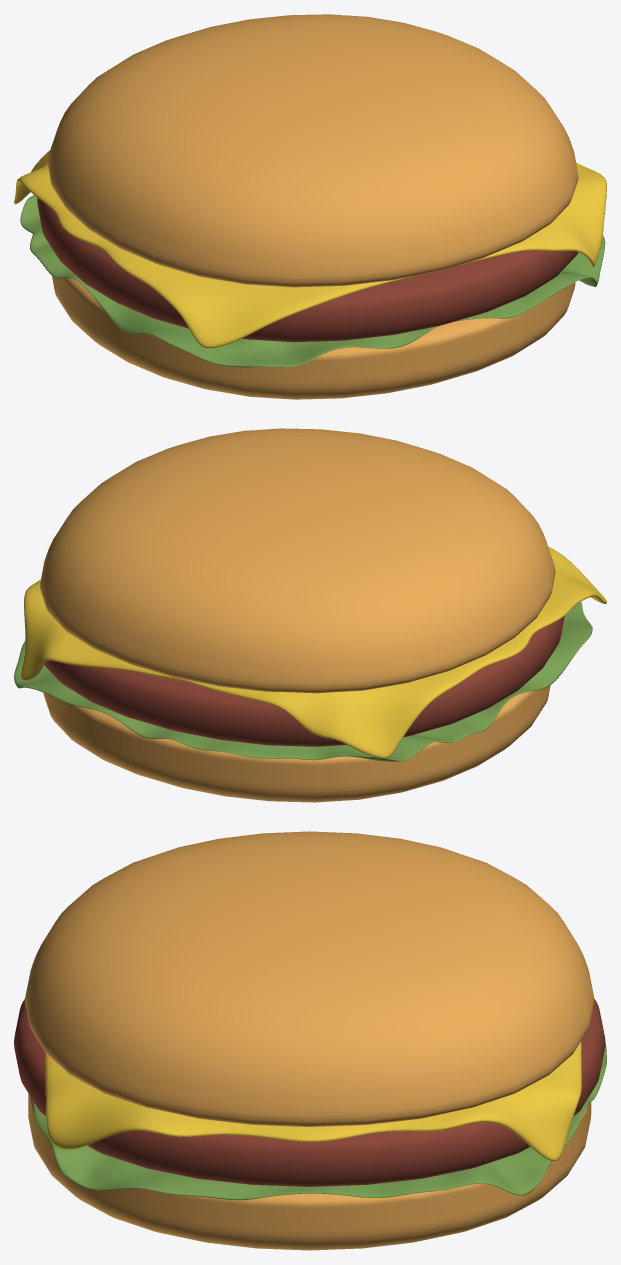
Rendered from hamburger.glb.
3 renders of one model, top to bottom at view 1: azimuth 30°, elevation 25°; view 2: azimuth 150°, elevation 25°; view 3: azimuth 270°, elevation 25°, orthographic. The views are drawn at different scales.
Visible parts, largest first — view 1: top bun, bottom bun, patty, cheese, lettuce; view 2: top bun, bottom bun, cheese, patty, lettuce; view 3: top bun, bottom bun, patty, cheese, lettuce.
Boxes of the visible parts, box(x1,y1,x2,y2) form: top bun: box(47, 14, 578, 287); bottom bun: box(52, 276, 575, 399); patty: box(37, 198, 578, 342); cheese: box(14, 150, 606, 348); lettuce: box(20, 195, 605, 367); top bun: box(40, 428, 555, 693); bottom bun: box(43, 685, 550, 802); cheese: box(21, 546, 606, 758); patty: box(44, 616, 564, 746); lettuce: box(14, 602, 592, 761); top bun: box(25, 831, 594, 1126); bottom bun: box(28, 1093, 591, 1250); patty: box(14, 998, 605, 1186); cheese: box(45, 1040, 581, 1160); lettuce: box(33, 1042, 606, 1200).
Bounding box in the file's own units: 9.7 × 4.8 × 9.65.
